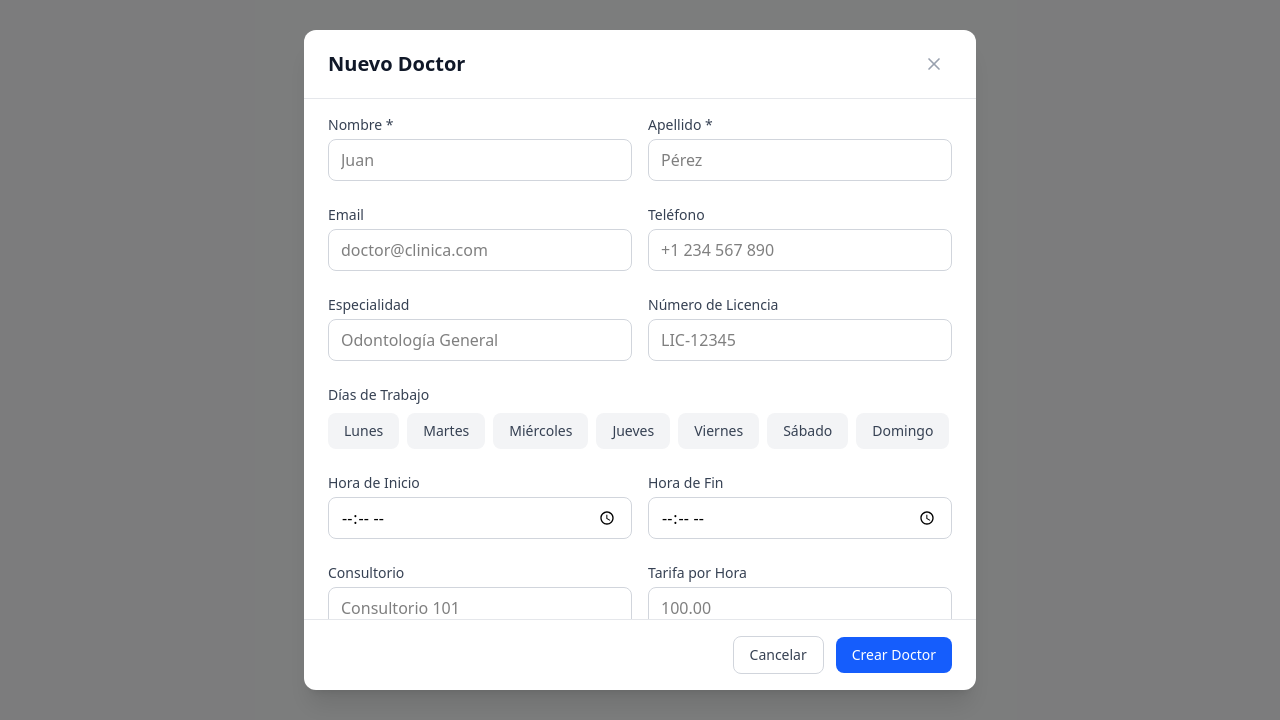
Test: DoctorFormModal › form validation › should show error for required lastName
In the field with placeholder "Juan": (480, 160) [328, 139, 632, 181], type "John"
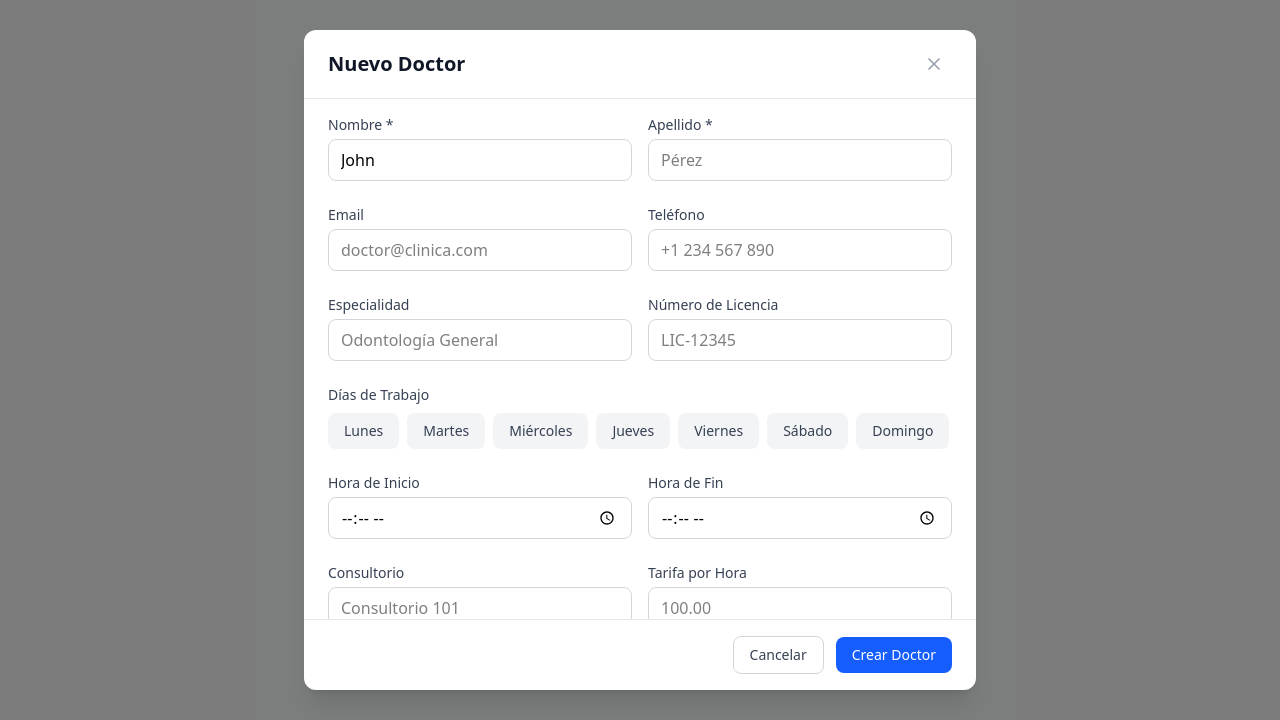
Click the button "Crear Doctor": (894, 655) [836, 637, 952, 673]
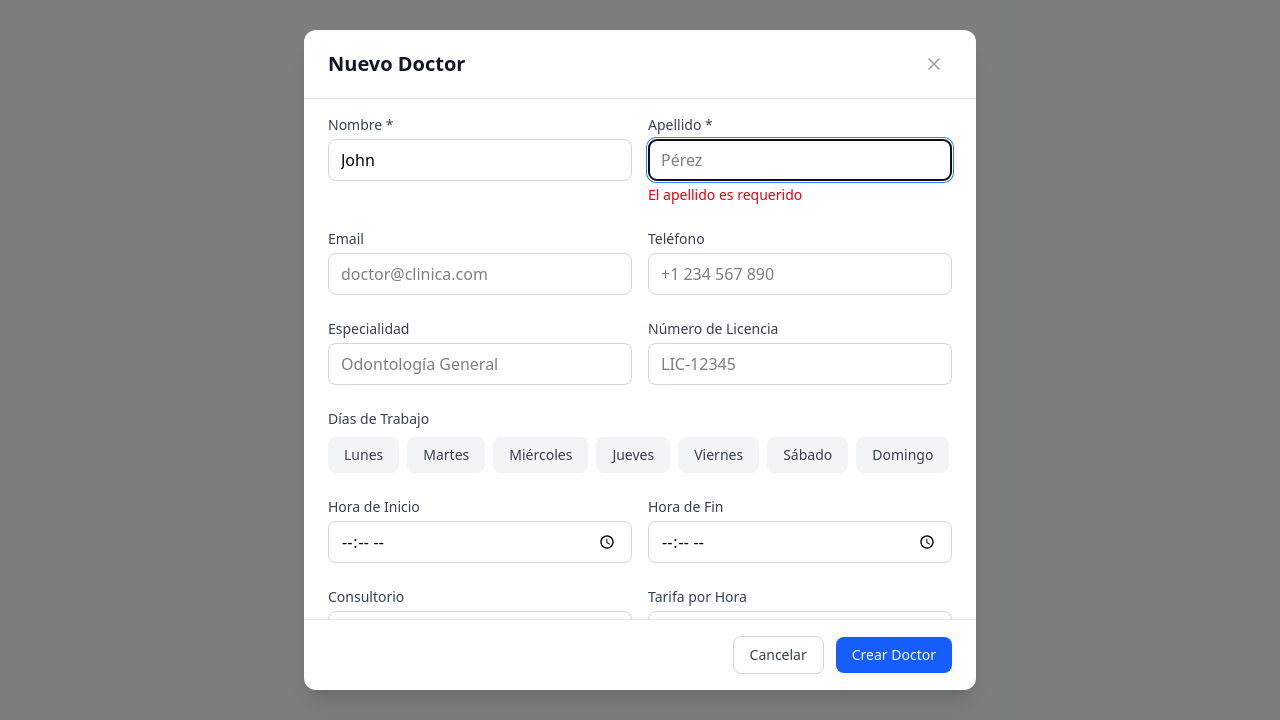
Now the text "El apellido es requerido" is shown, box [648, 185, 802, 204]
